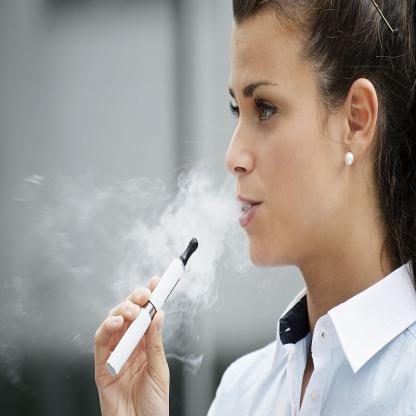smoking: (106, 237, 199, 377)
